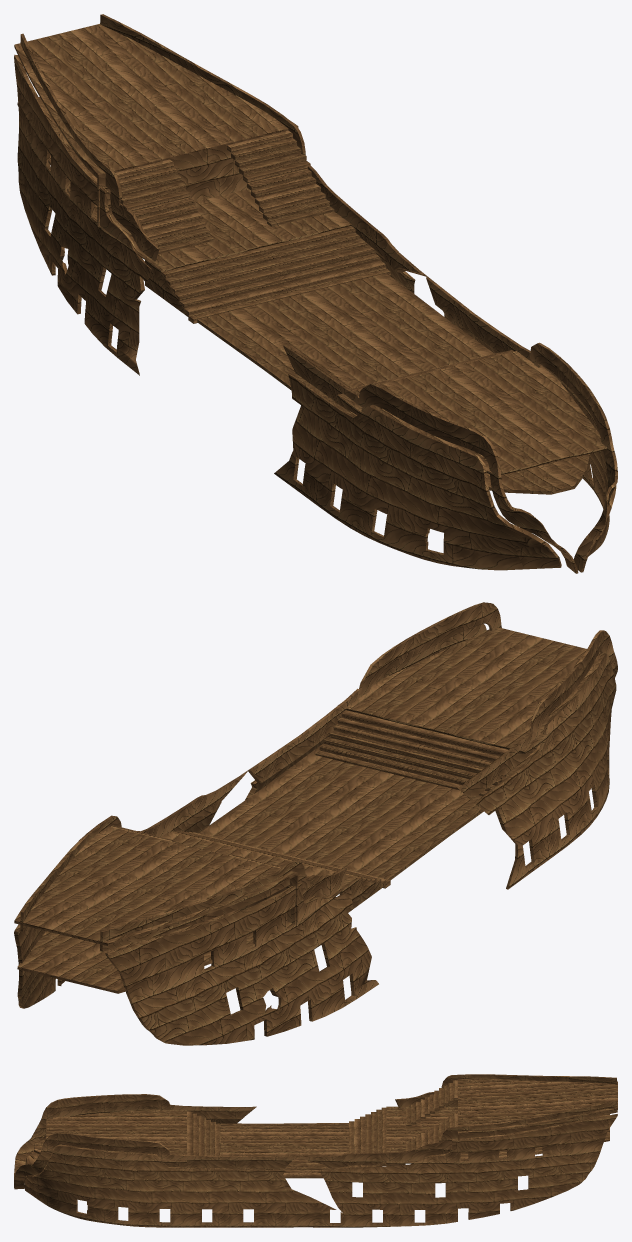
Rendered from Level3Unwrapped 2.fbx.
The picture shows the model from 3 angles, top to bottom: view 1: azimuth 30°, elevation 25°; view 2: azimuth 150°, elevation 25°; view 3: azimuth 270°, elevation 25°; orthographic projection. The views are drawn at different scales.
Visible parts, largest first — view 1: SidesWalls, SidesWalls.004, SidesWalls.006, TopDeck, Side Trim, BackSteps, TopDeck Mid stairs; view 2: SidesWalls, SidesWalls.006, TopDeck, SidesWalls.004, Side Trim, front stairs, TopDeck Mid stairs; view 3: SidesWalls, Side Trim, SidesWalls.006, SidesWalls.004, TopDeck, BackSteps, TopDeck Mid stairs, front stairs.
Part boxes in pixels (x1=…): SidesWalls: x1=14, y1=54, x2=616, y2=570; SidesWalls.004: x1=14, y1=24, x2=298, y2=227; SidesWalls.006: x1=17, y1=97, x2=606, y2=475; TopDeck: x1=197, y1=273, x2=590, y2=494; Side Trim: x1=20, y1=14, x2=617, y2=573; BackSteps: x1=115, y1=130, x2=334, y2=254; TopDeck Mid stairs: x1=161, y1=226, x2=390, y2=323; SidesWalls: x1=14, y1=624, x2=616, y2=1045; SidesWalls.006: x1=17, y1=627, x2=600, y2=993; TopDeck: x1=198, y1=742, x2=541, y2=880; SidesWalls.004: x1=14, y1=826, x2=298, y2=945; Side Trim: x1=20, y1=602, x2=617, y2=951; front stairs: x1=315, y1=710, x2=508, y2=795; TopDeck Mid stairs: x1=170, y1=830, x2=390, y2=888; SidesWalls: x1=24, y1=1100, x2=617, y2=1227; Side Trim: x1=14, y1=1074, x2=617, y2=1189; SidesWalls.006: x1=46, y1=1106, x2=609, y2=1166; SidesWalls.004: x1=458, y1=1078, x2=617, y2=1163; TopDeck: x1=34, y1=1123, x2=348, y2=1178; BackSteps: x1=406, y1=1080, x2=457, y2=1150; TopDeck Mid stairs: x1=349, y1=1107, x2=386, y2=1167; front stairs: x1=187, y1=1111, x2=220, y2=1169.
Size of the model in its own units: 576 by 416 by 2161.
